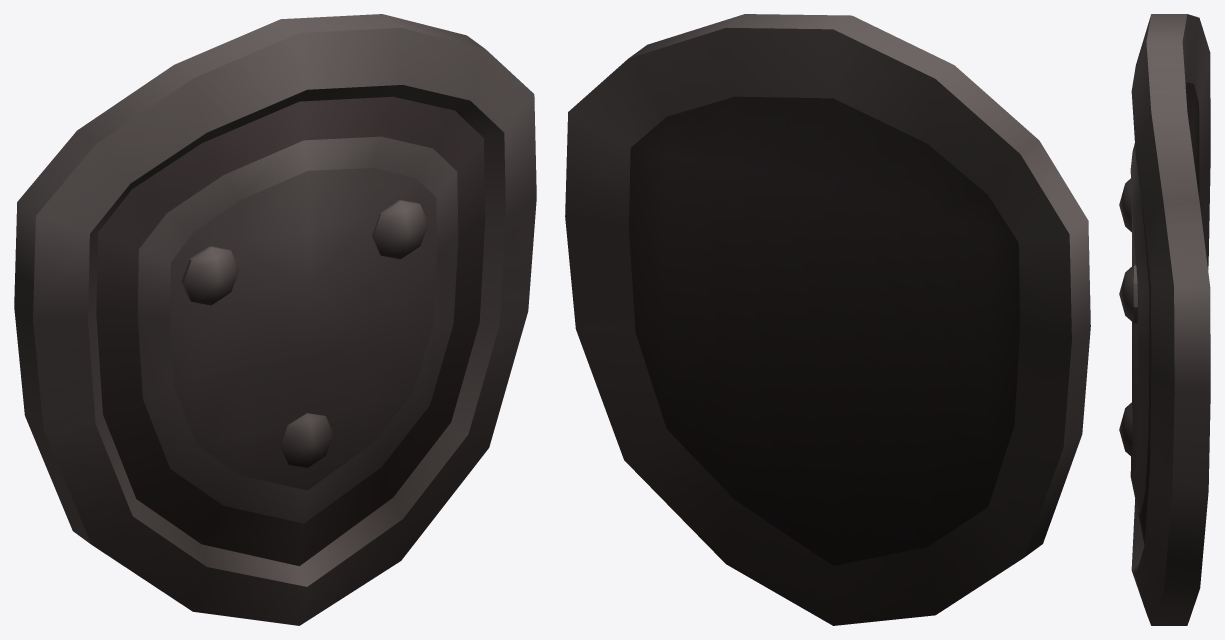
Rendered from Equip_Shield_04_3.FBX.
3 renders of one model, left to right at view 1: azimuth 30°, elevation 25°; view 2: azimuth 150°, elevation 25°; view 3: azimuth 270°, elevation 25°, orthographic. The views are drawn at different scales.
Parts seen in each view (by area): view 1: Equip_Shield_04_3; view 2: Equip_Shield_04_3; view 3: Equip_Shield_04_3.
Part boxes in pixels (box(x1,y1,x2,y2)): Equip_Shield_04_3: box(14, 14, 536, 625); Equip_Shield_04_3: box(565, 14, 1090, 625); Equip_Shield_04_3: box(1119, 14, 1210, 625).
Bounding box in the file's own units: 46.52 × 52.33 × 7.6.
